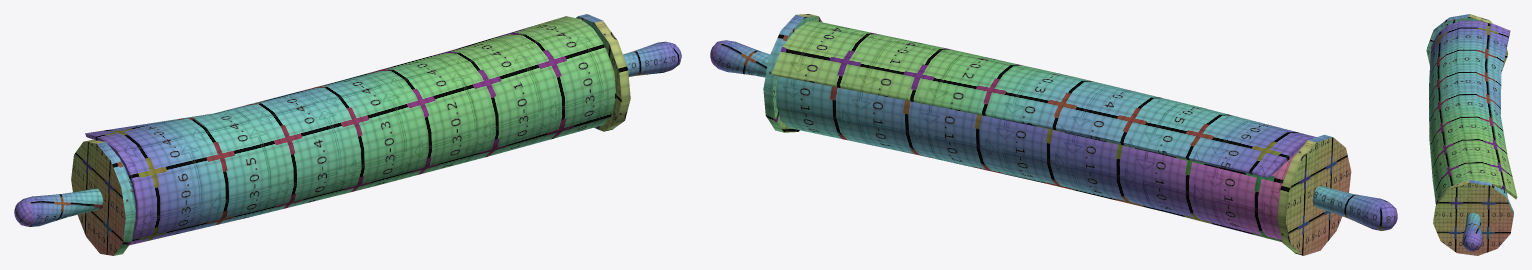
Rendered from ScrollTextureMap.fbx.
3 views of the same model, side by side, from view 1: azimuth 30°, elevation 25°; view 2: azimuth 150°, elevation 25°; view 3: azimuth 270°, elevation 25° (orthographic). The views are drawn at different scales.
Parts seen in each view (by area): view 1: polySurface3; view 2: polySurface3; view 3: polySurface3.
Part boxes in pixels (bbox=[...]): polySurface3: bbox=[14, 14, 681, 255]; polySurface3: bbox=[710, 14, 1397, 255]; polySurface3: bbox=[1426, 14, 1517, 255].
Bounding box in the file's own units: 48.04 × 7.46 × 8.35.
Materials: 1 (1 with a texture image).
